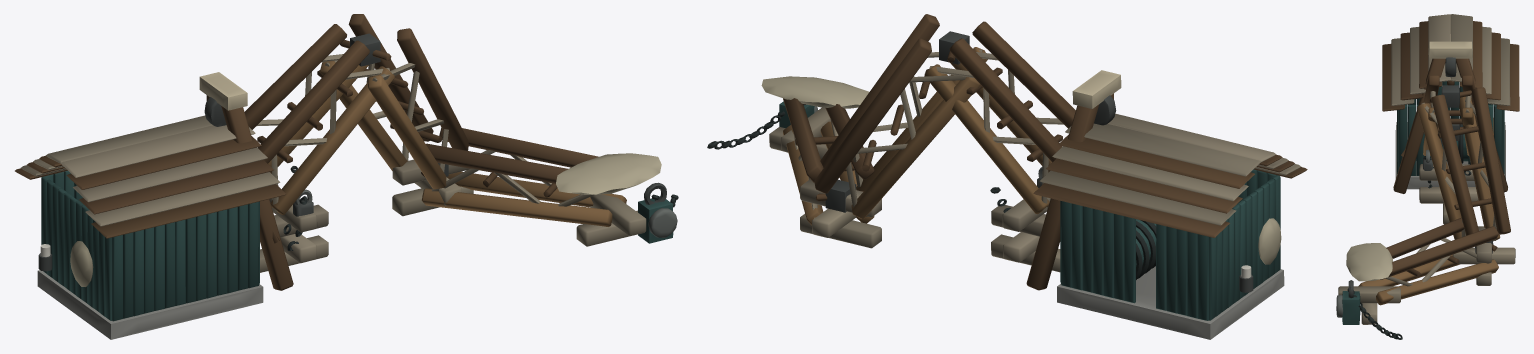
File: boom_crane_wreck_b_lod1.glb
3 renders of one model, left to right at view 1: azimuth 30°, elevation 25°; view 2: azimuth 150°, elevation 25°; view 3: azimuth 270°, elevation 25°, orthographic. The views are drawn at different scales.
Parts seen in each view (by area): view 1: Surface.001; view 2: Surface.001; view 3: Surface.001.
Boxes of the visible parts, <box> form: Surface.001: <box>15,14,678,339</box>; Surface.001: <box>707,14,1307,339</box>; Surface.001: <box>1336,14,1519,339</box>.
Size of the model in its own units: 13.72 by 4.76 by 4.96.
